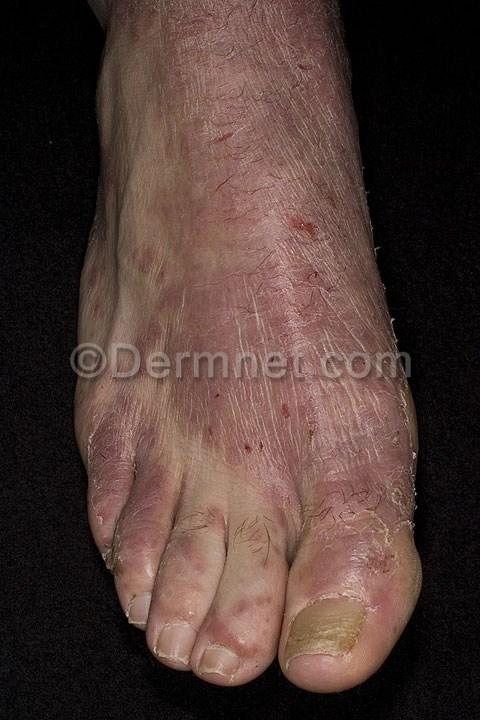Eczema: (183, 166, 396, 343), (132, 0, 355, 163), (195, 385, 442, 496), (46, 385, 169, 573), (283, 503, 432, 590)
